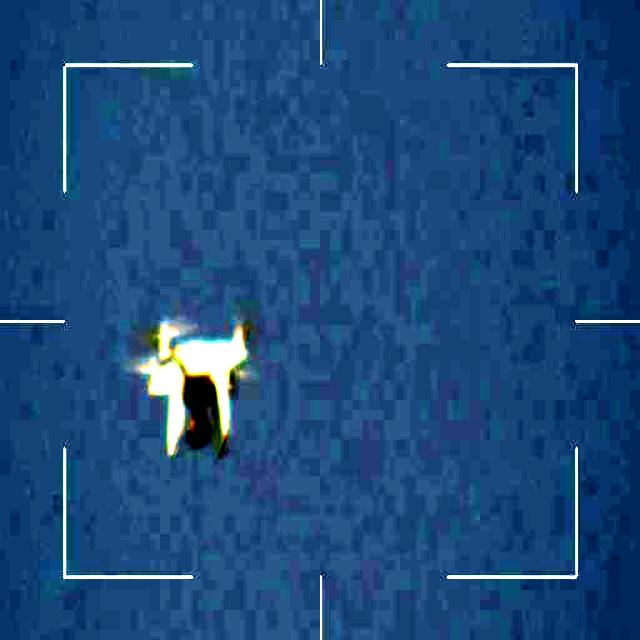bird: (120, 322, 264, 461)
